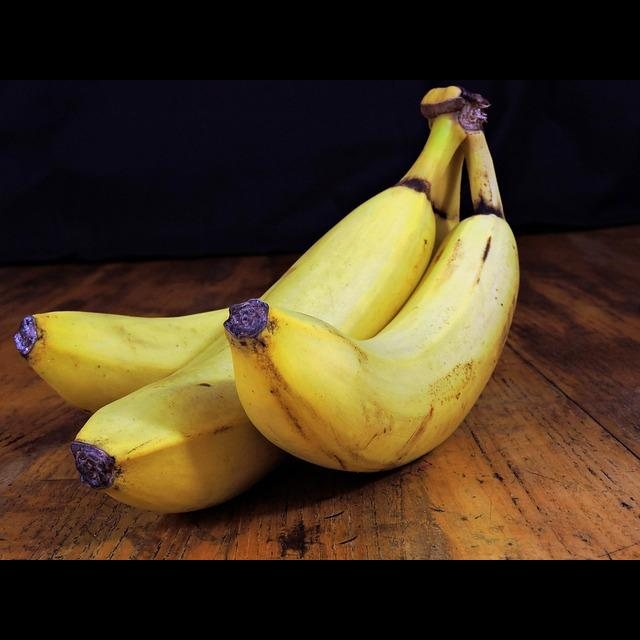banana: (75, 179, 434, 513), (220, 193, 527, 504), (14, 206, 368, 449)
